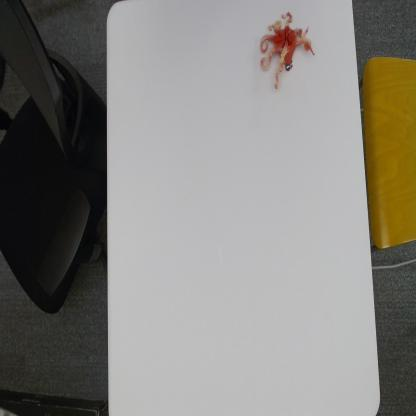Octopus: (256, 8, 318, 94)
